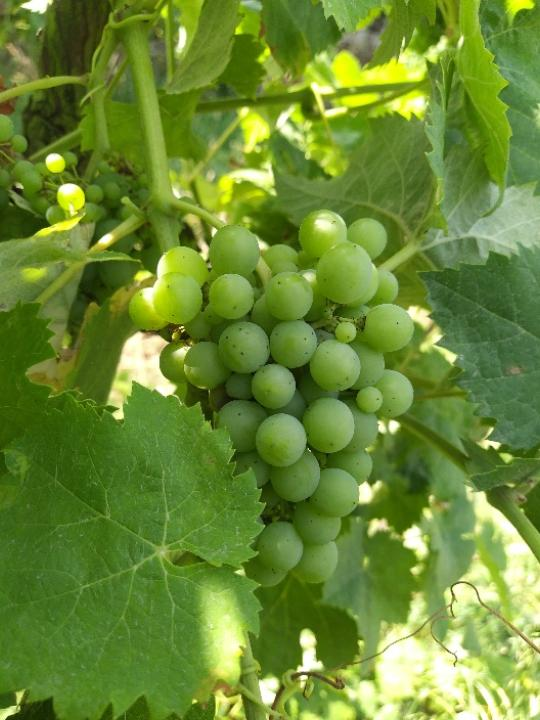grape: (128, 209, 416, 587)
